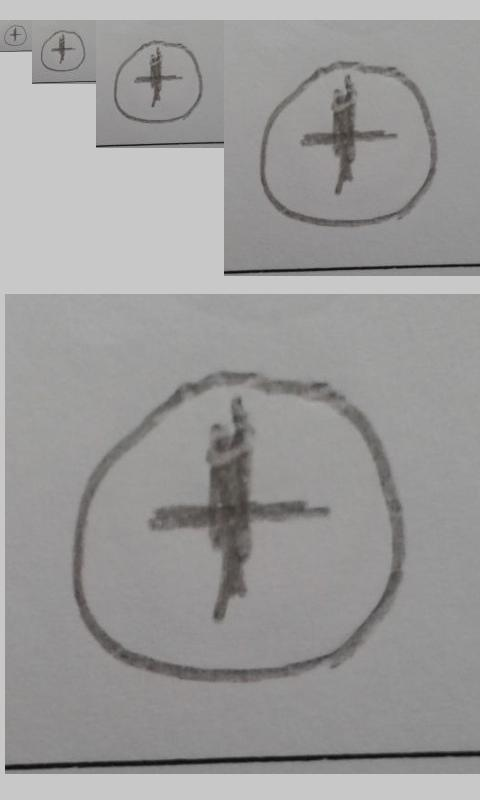button: (69, 369, 407, 685), (259, 60, 438, 227), (113, 40, 203, 123), (40, 29, 87, 72), (3, 24, 28, 47)
